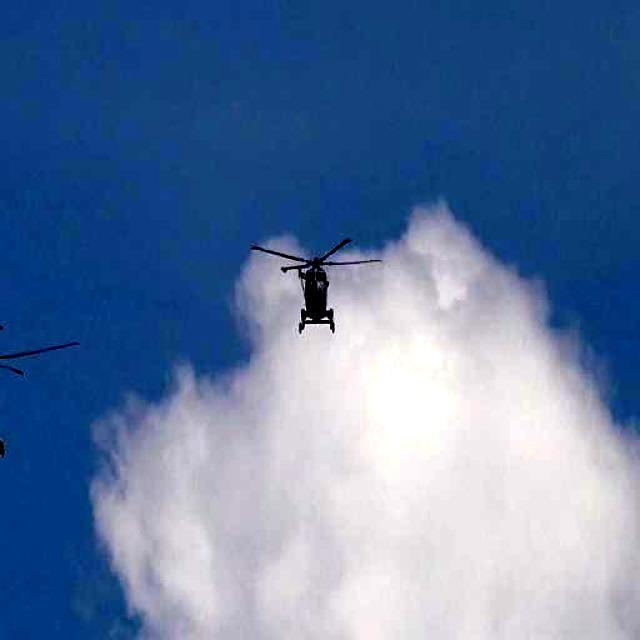drone: (234, 211, 376, 355), (0, 288, 75, 466)
